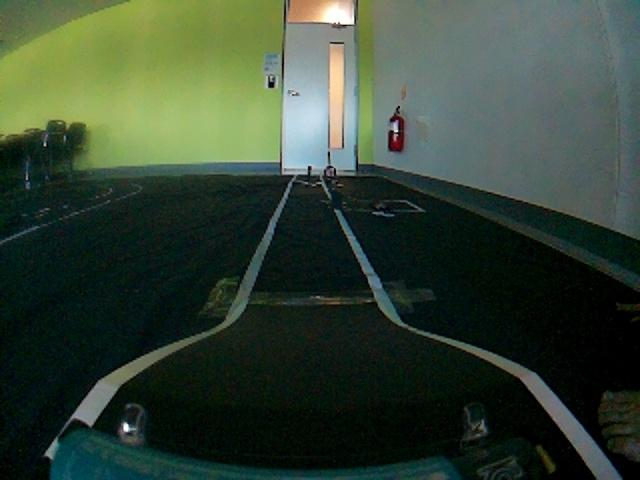go: (212, 190, 403, 311)
hill_down: (27, 318, 607, 480)
